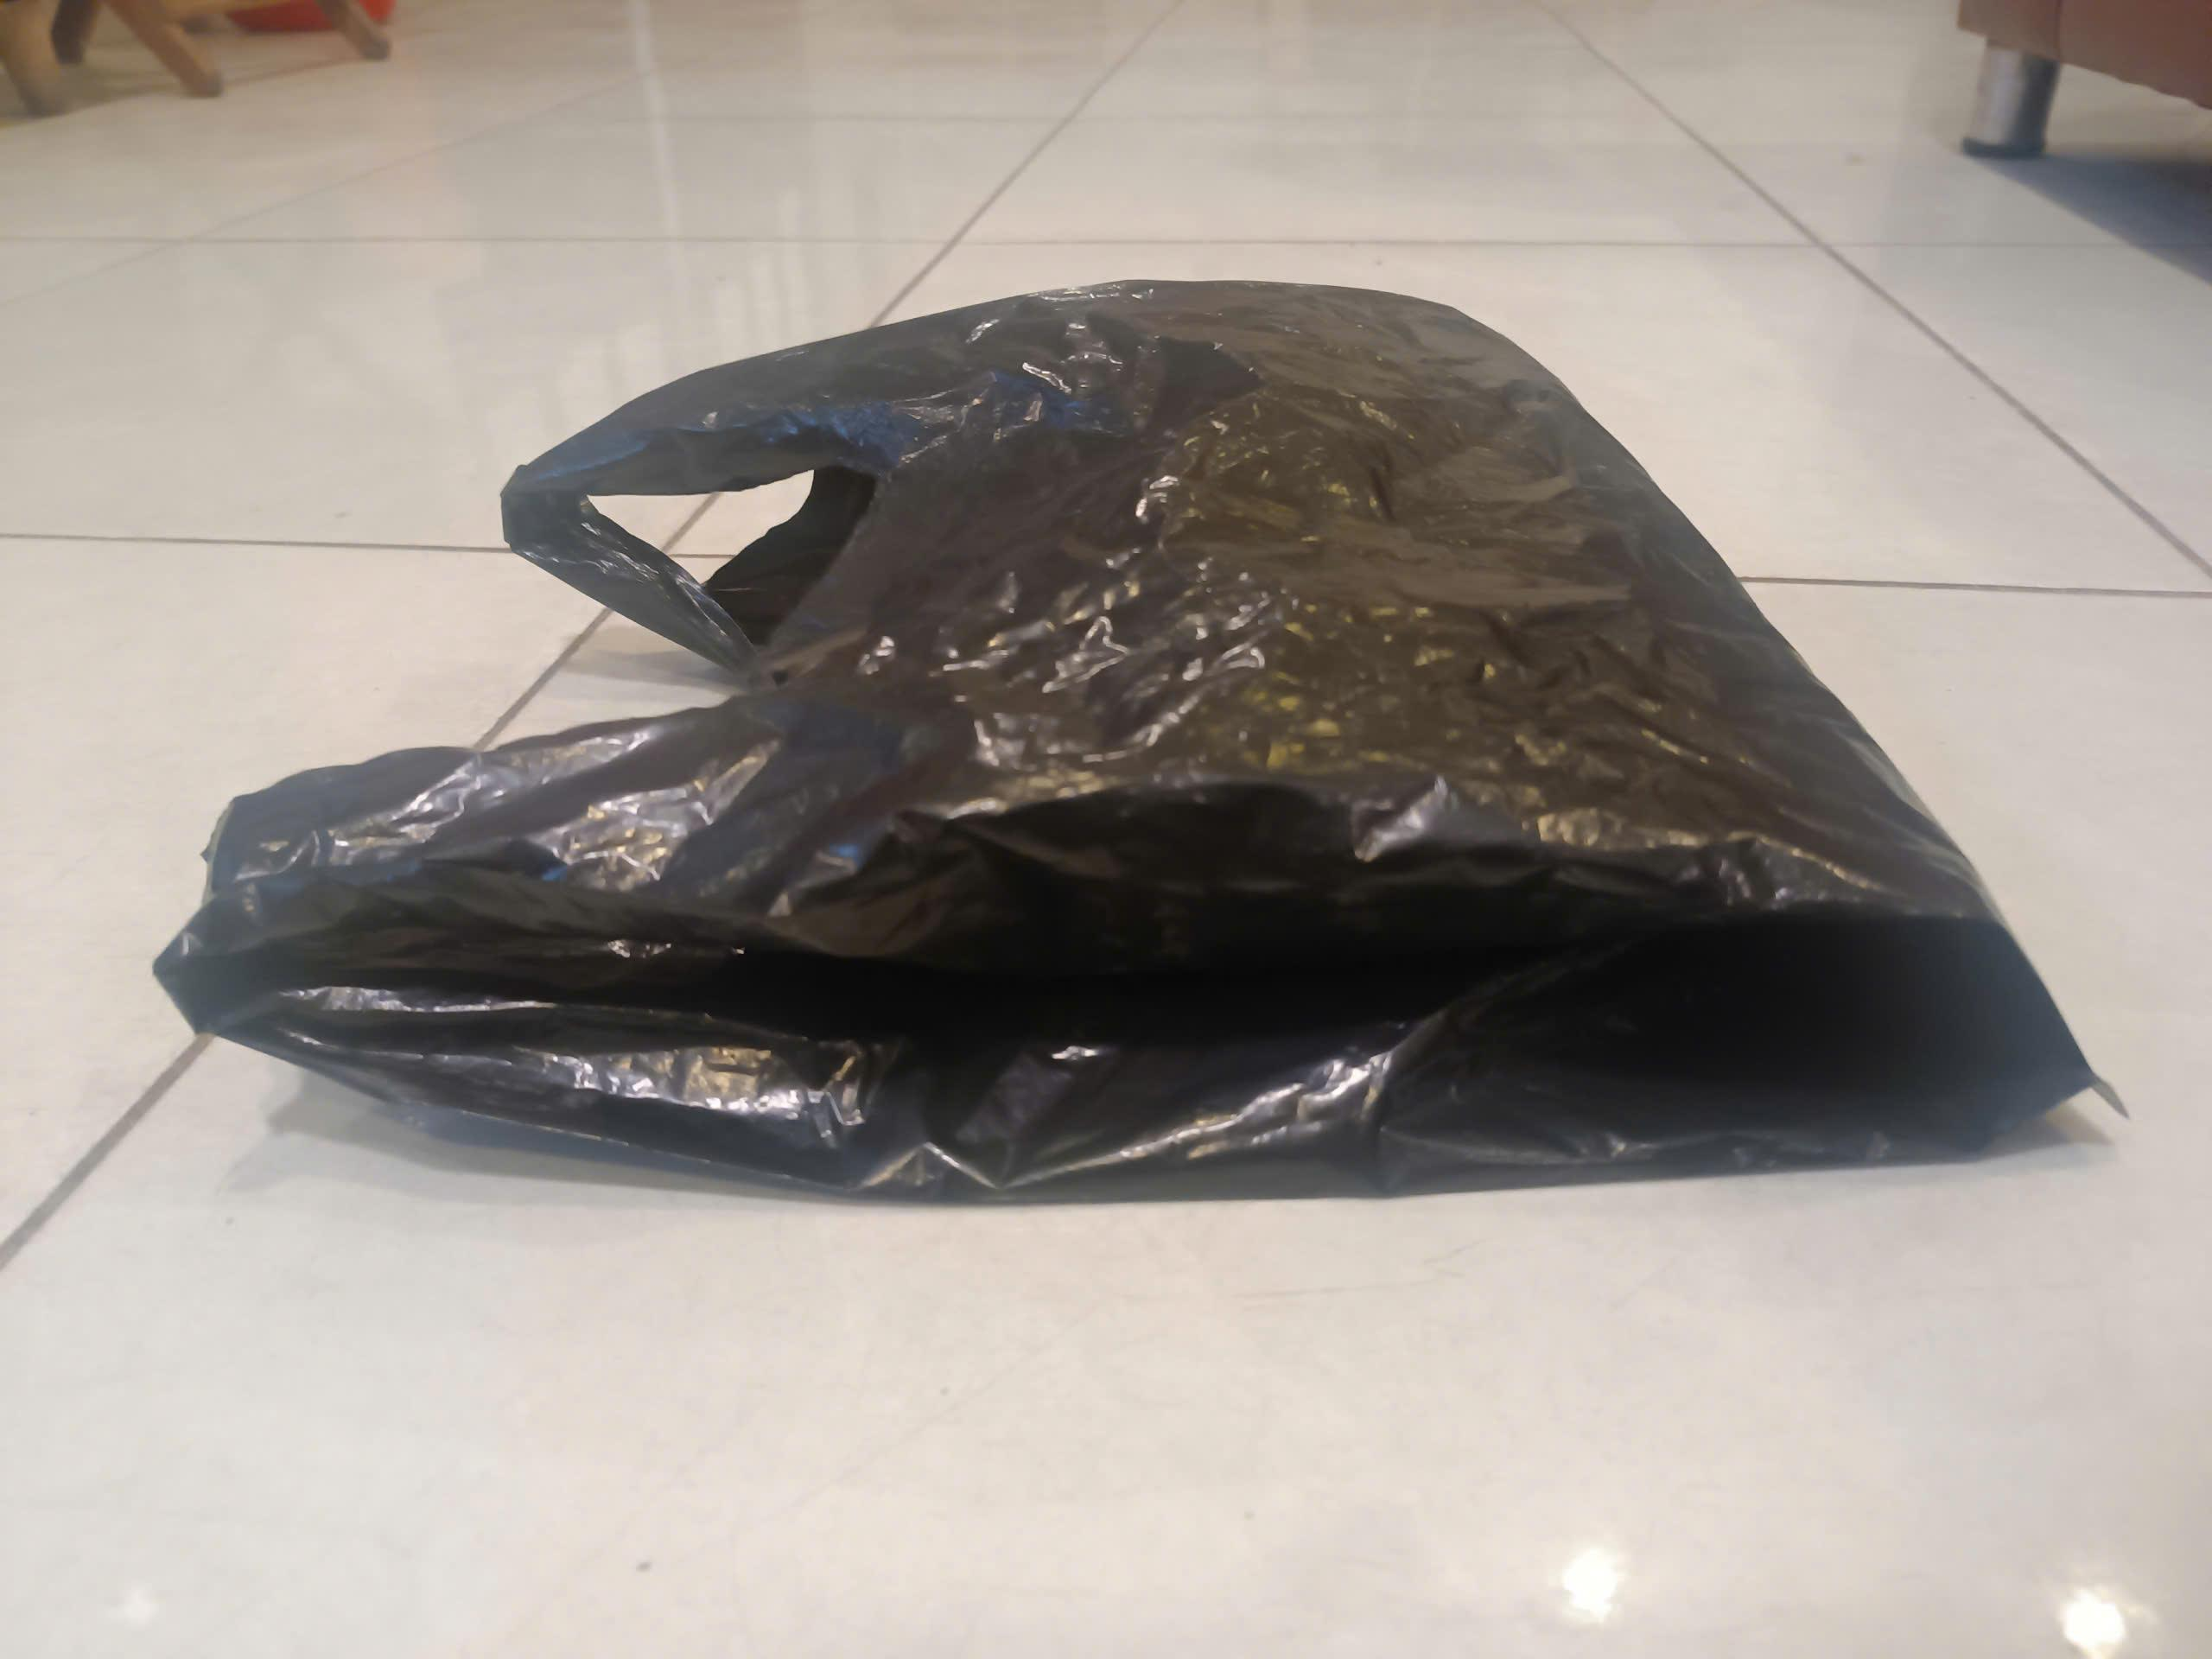Vo co: (153, 281, 2121, 1183)
